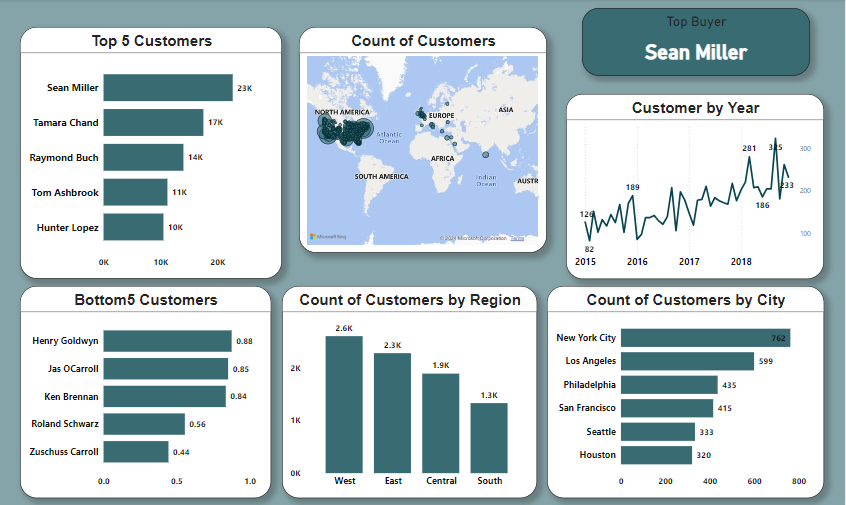

What the dashboard file says about the page in this screenshot:
{"tool":"powerbi","page":{"name":"Customers","canvas":[1500,900],"ordinal":2},"visuals":[{"type":"map","title":"Count of Customers","fields":{"Size":["superstore.Customer_Name"],"Category":["superstore.City"]},"box":[531.5,49.6,439.4,400.4],"z":0},{"type":"barChart","title":"Top 5 Customers","fields":{"Y":["superstore.Sales"],"Category":["superstore.Customer_Name"]},"box":[37.2,49.6,464.2,446.5],"z":3000},{"type":"columnChart","title":"Count of Customers by Region","fields":{"Category":["superstore.Region"],"Y":["superstore.Customer_Name"]},"box":[501.4,508.5,451.8,375.6],"z":4000},{"type":"card","title":"Top Buyer","fields":{"Values":["superstore.Top_Buyer_Customer_Name"]},"box":[1032.9,15.9,403.9,120.5],"z":5000},{"type":"barChart","title":"Bottom5 Customers","fields":{"Y":["superstore.Sales"],"Category":["superstore.Customer_Name"]},"box":[37.2,508.5,444.7,375.6],"z":7000},{"type":"barChart","title":"Count of Customers by City","fields":{"Category":["superstore.City"],"Y":["superstore.Customer_Name"]},"box":[970.9,508.5,490.7,375.6],"z":8000},{"type":"lineChart","title":"Customer by Year ","fields":{"Y2":["superstore.Customer_Name"],"Category":["superstore.Order_Date.Variation.Date Hierarchy.Year","superstore.Order_Date.Variation.Date Hierarchy.Month"]},"box":[1004.5,168.3,457.1,327.8],"z":9000}]}

Visuals, with their boxes in screenshot pixels (x1, y1, x2, y2), scaled from the page's 1500x900 canvas onto the 846x505 screenshot:
"Count of Customers" map: [left=300, top=28, right=548, bottom=252]
"Top 5 Customers" barChart: [left=21, top=28, right=283, bottom=278]
"Count of Customers by Region" columnChart: [left=283, top=285, right=538, bottom=496]
"Top Buyer" card: [left=583, top=9, right=810, bottom=77]
"Bottom5 Customers" barChart: [left=21, top=285, right=272, bottom=496]
"Count of Customers by City" barChart: [left=548, top=285, right=824, bottom=496]
"Customer by Year " lineChart: [left=567, top=94, right=824, bottom=278]
